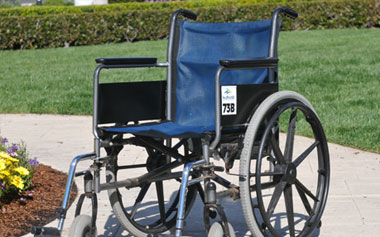wheelchair: (26, 8, 338, 233)
